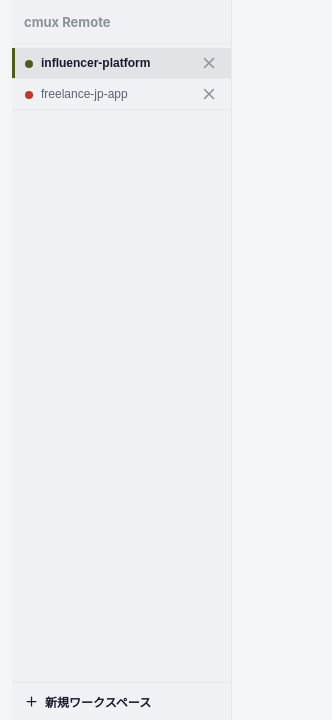
Test: Drawer workspace row › ワークスペース行のタップは展開/折りたたみだけで、サーフェスの前面化を起こさない
Click the button "freelance-jp-app".
click(101, 94)  # box [15,79,187,109]
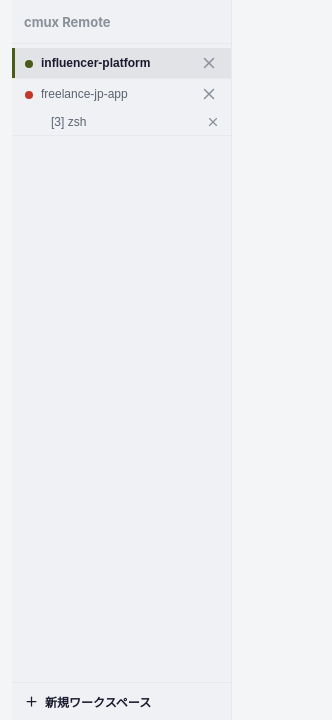
Now the text "[3] zsh" is shown, box [51,115,86,129]
Click the button "freelance-jp-app".
click(101, 94)  # box [15,79,187,109]
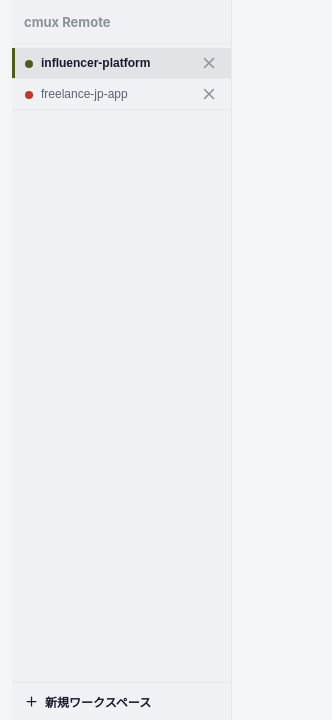
Now the button "[3] zsh" is gone
